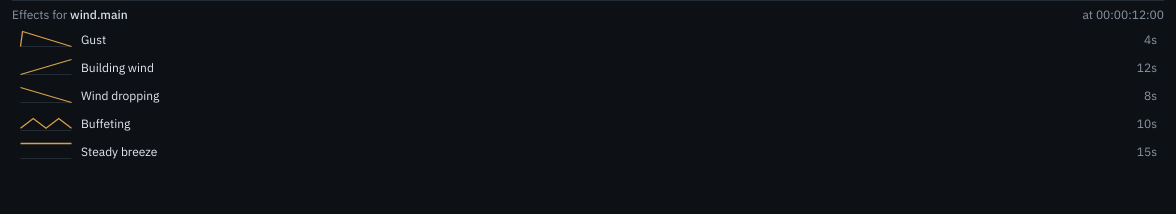
previewing › says which pass it is on
The image size is (1176, 214).
Click the text "Gust": click(94, 39) [81,32,106,46]
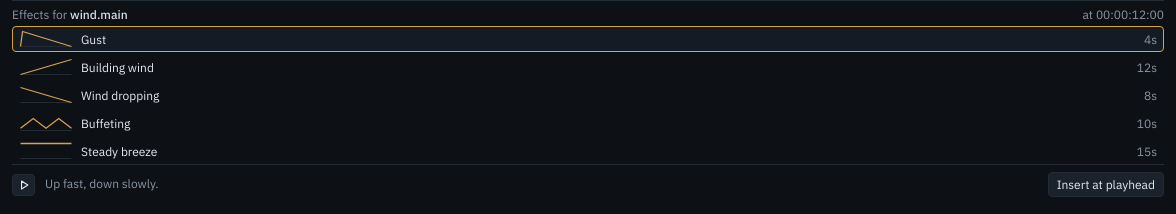
Click the button named "Preview in the room": click(24, 184) [12,174,35,196]
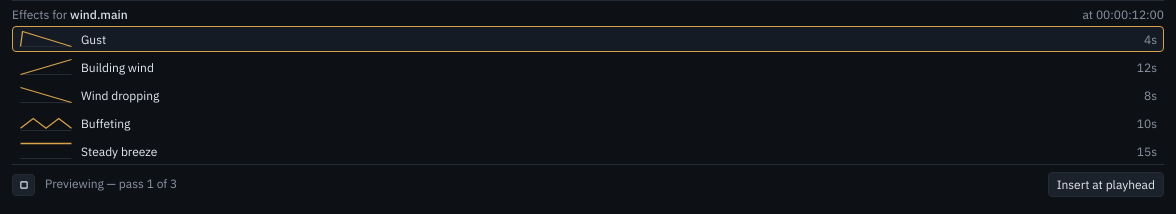
Expected: the text "Previewing — pass 1 of 3" is shown, [45,176,177,191]
